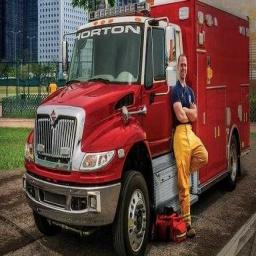ambulance: (24, 0, 249, 254)
